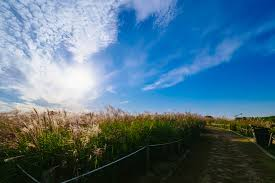field: (4, 113, 275, 181)
sky: (1, 1, 275, 115)
